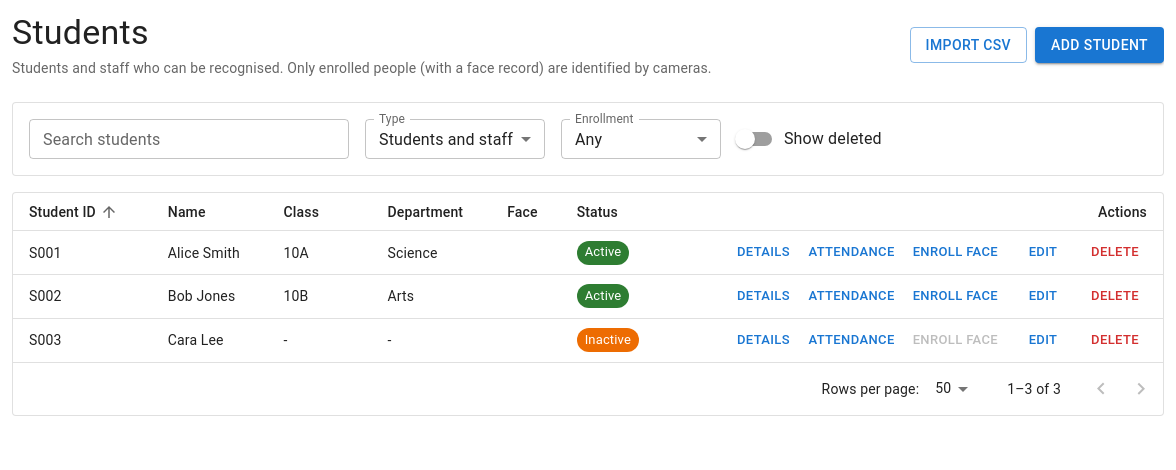
Test: list › "Show deleted" requests include_deleted=true and shows deleted rows read-only
Expected: the table named "Students" is shown, [13, 193, 1163, 362]
Click the checkbox labelled "Show deleted".
click(808, 139)  # box [735, 129, 882, 149]
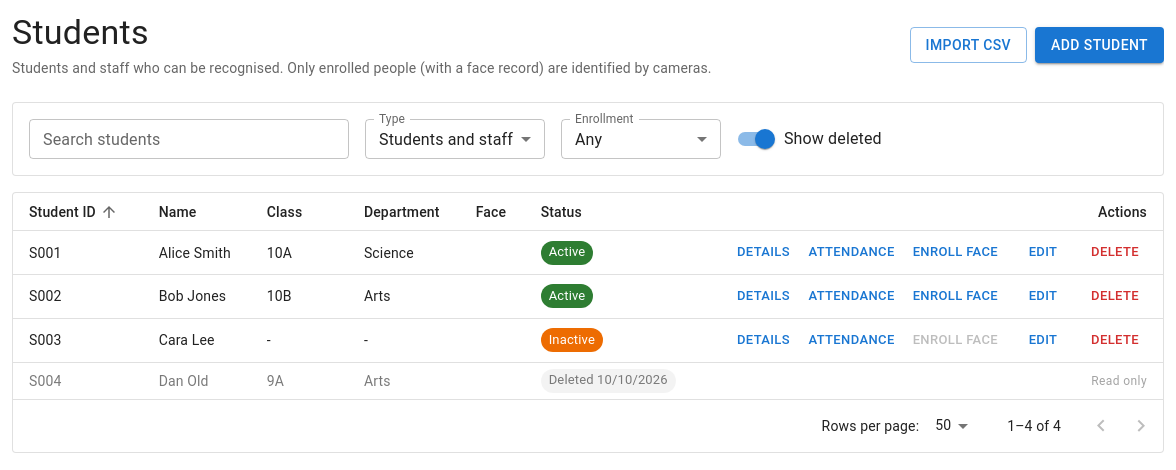
Now the cell "Dan Old" is shown, box [143, 362, 251, 399]
Now the text "Deleted 10/10/2026" is shown, box [541, 371, 676, 390]
Now the text "Read only" is shown, box [1091, 374, 1147, 388]
